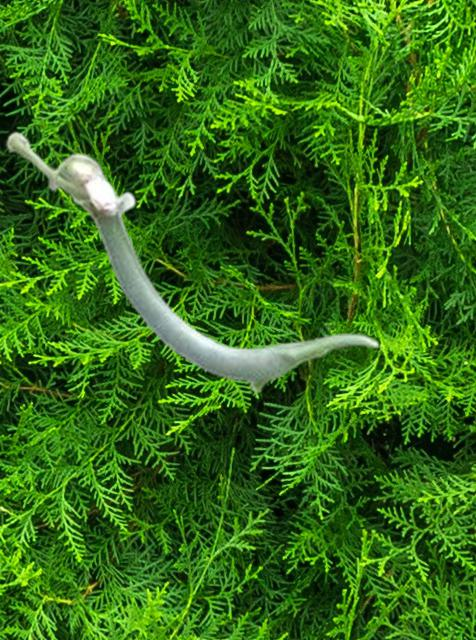french_bean: (5, 130, 379, 393)
